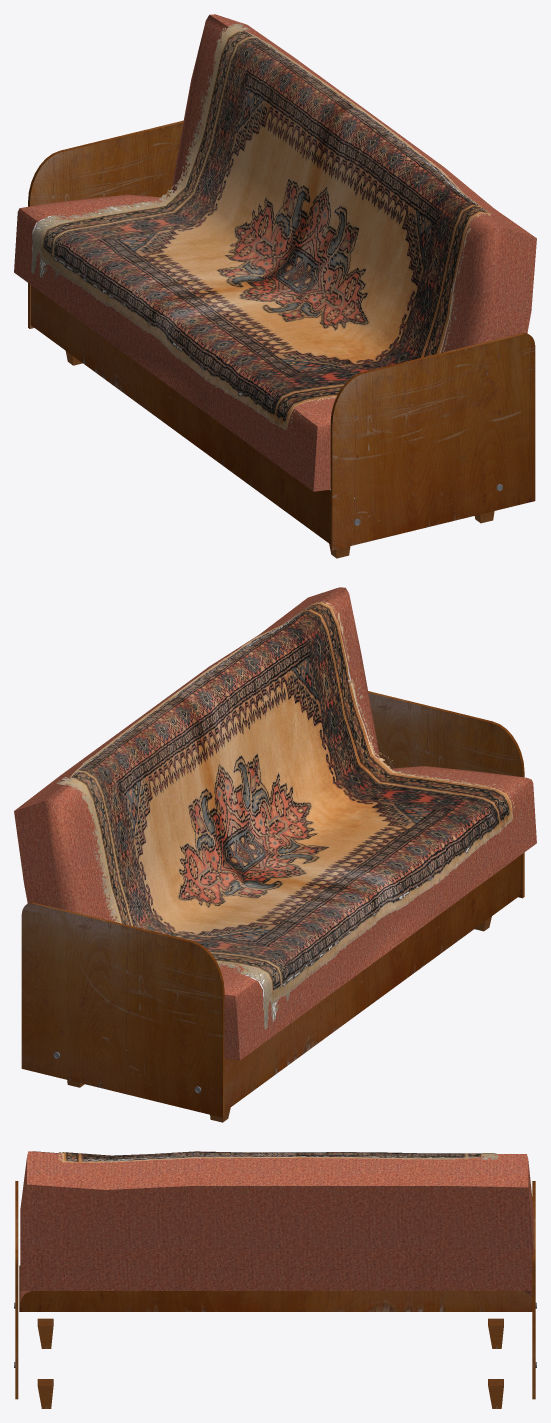
Rendered from couch_1.FBX.
3 renders of one model, top to bottom at view 1: azimuth 30°, elevation 25°; view 2: azimuth 150°, elevation 25°; view 3: azimuth 270°, elevation 25°, orthographic. The views are drawn at different scales.
Visible parts, largest first — view 1: couch_1; view 2: couch_1; view 3: couch_1.
Part boxes in pixels (x1,y1,x2,y2): couch_1: [14, 14, 536, 558]; couch_1: [14, 587, 536, 1122]; couch_1: [14, 1151, 536, 1408].
Bounding box in the file's own units: 87.75 × 107 × 196.
